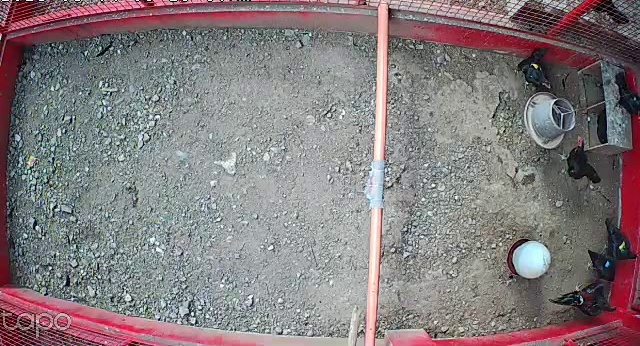Chicken: (556, 132, 607, 191), (598, 215, 640, 260), (515, 46, 554, 94), (586, 246, 614, 284)
Rooster: (546, 276, 622, 319)
Saddle_Color_Blue: (606, 259, 610, 268)
Saddle_Color_Yellow: (529, 63, 541, 70)
Saddle_Color_YellowGreen: (618, 242, 628, 254)
